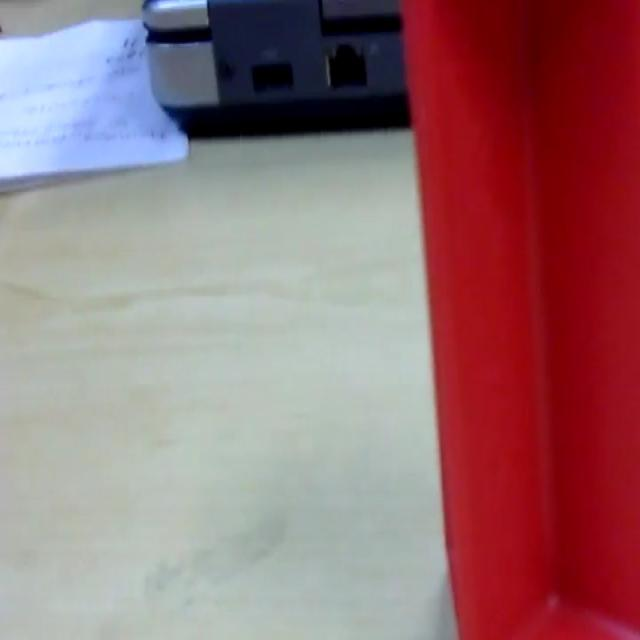red_block: (400, 0, 638, 636)
